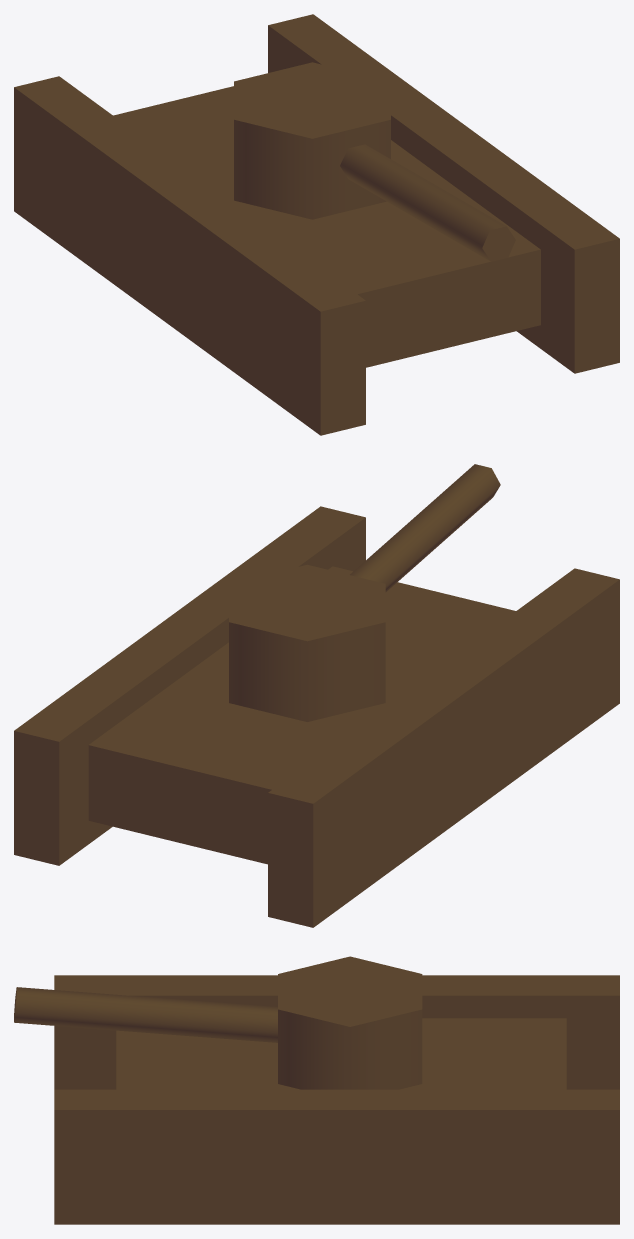
The model's file is Tank.FBX.
3 renders of one model, top to bottom at view 1: azimuth 30°, elevation 25°; view 2: azimuth 150°, elevation 25°; view 3: azimuth 270°, elevation 25°, orthographic. The views are drawn at different scales.
Visible parts, largest first — view 1: Box003, Box001, Box002, Cylinder001, Cylinder002; view 2: Box003, Box001, Box002, Cylinder001, Cylinder002; view 3: Box002, Box003, Box001, Cylinder001, Cylinder002.
Part boxes in pixels (<box>): Box003: <box>14,76,365,435</box>; Box001: <box>113,86,540,367</box>; Box002: <box>268,14,619,373</box>; Cylinder001: <box>234,62,390,219</box>; Cylinder002: <box>340,144,515,261</box>; Box003: <box>268,568,619,927</box>; Box001: <box>88,566,515,864</box>; Box002: <box>14,506,365,865</box>; Cylinder001: <box>229,564,385,721</box>; Cylinder002: <box>350,464,500,592</box>; Box002: <box>54,1089,619,1224</box>; Box003: <box>54,975,619,1089</box>; Box001: <box>116,1018,566,1089</box>; Cylinder001: <box>278,956,422,1089</box>; Cylinder002: <box>14,987,277,1042</box>.
Size of the model in its own units: 27.85 by 16.36 by 52.96.
